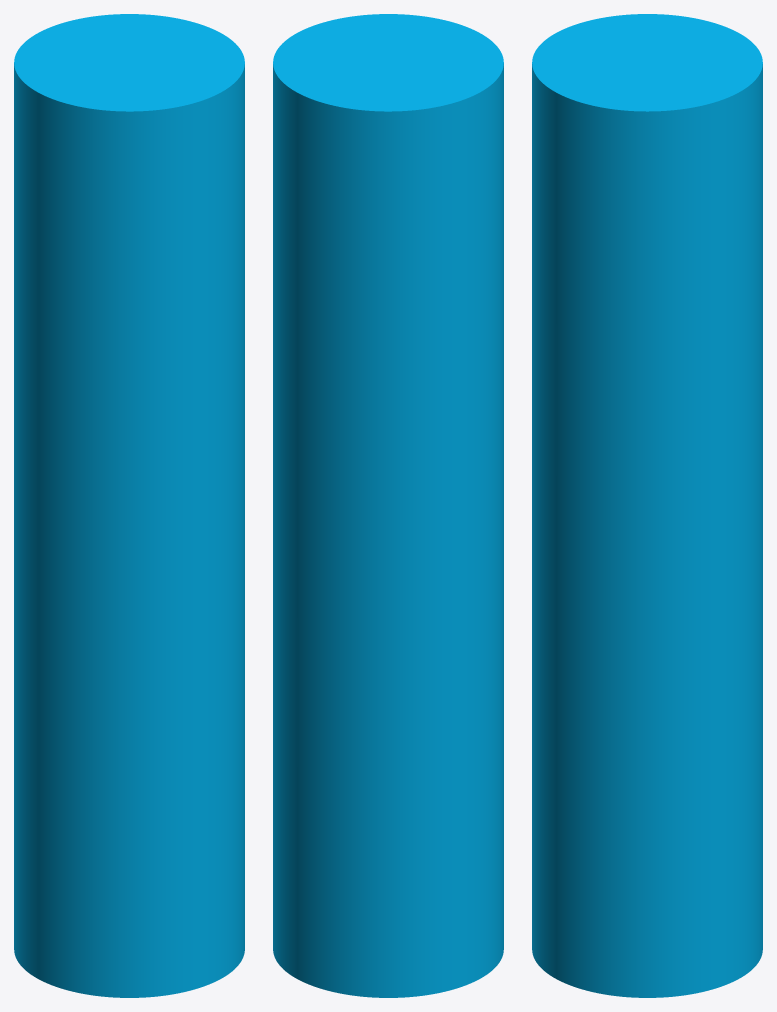
File: workplane-6.gltf
3 renders of one model, left to right at view 1: azimuth 30°, elevation 25°; view 2: azimuth 150°, elevation 25°; view 3: azimuth 270°, elevation 25°, orthographic.
Parts seen in each view (by area): view 1: Gövde; view 2: Gövde; view 3: Gövde.
Part boxes in pixels (left/top/right/bottom): Gövde: left=14, top=14, right=244, bottom=997; Gövde: left=273, top=14, right=503, bottom=997; Gövde: left=532, top=14, right=762, bottom=997.
Size of the model in its own units: 0.0105 by 0.0445 by 0.0105.
